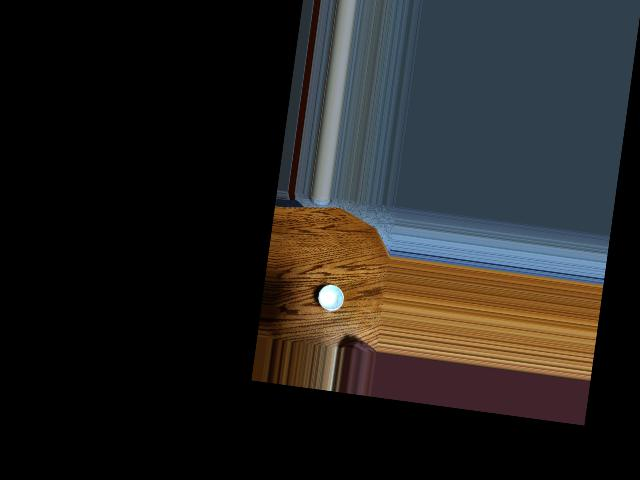cotage: (317, 280, 347, 315)
